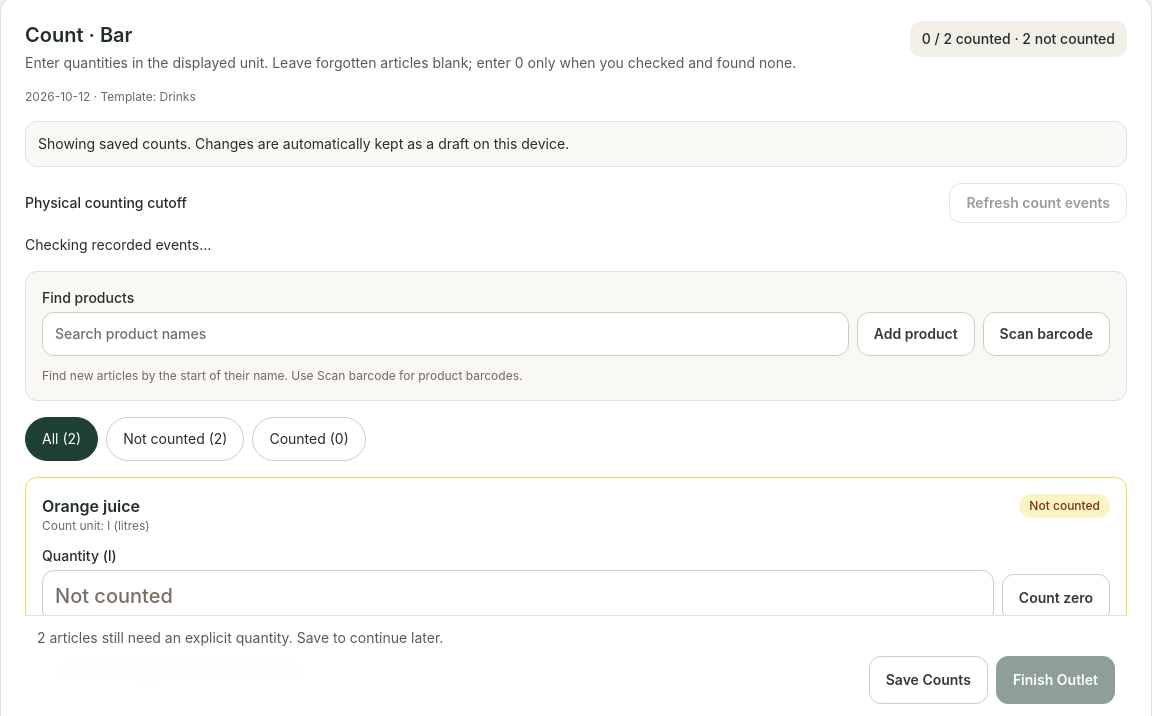
Test: lets a counter correct an accidental new article before saving without removing expected template rows
Click the button "Add product". click: (916, 334)
box: [857, 312, 975, 356]
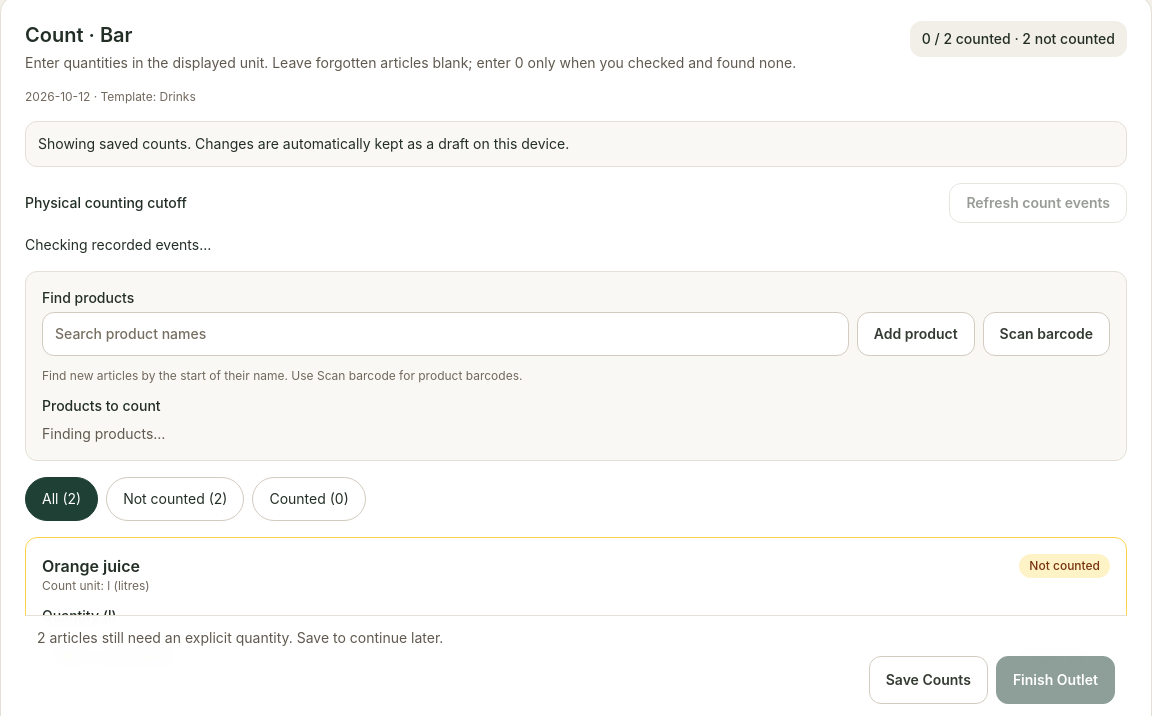
Type "Wine" into the search field labelled "Find products". click: (445, 334)
box: [42, 312, 849, 356]
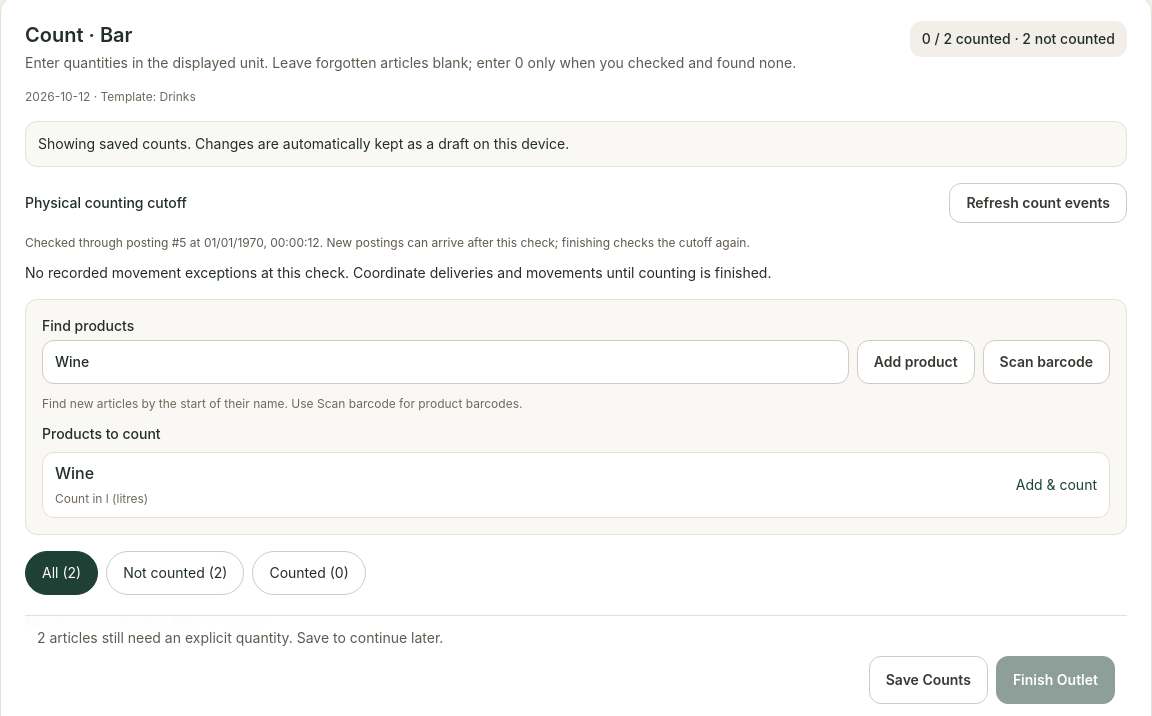
Click the button "Wine Count in l (litres) Add & count". click: (75, 473)
box: [42, 452, 1110, 518]
(page scrolled)
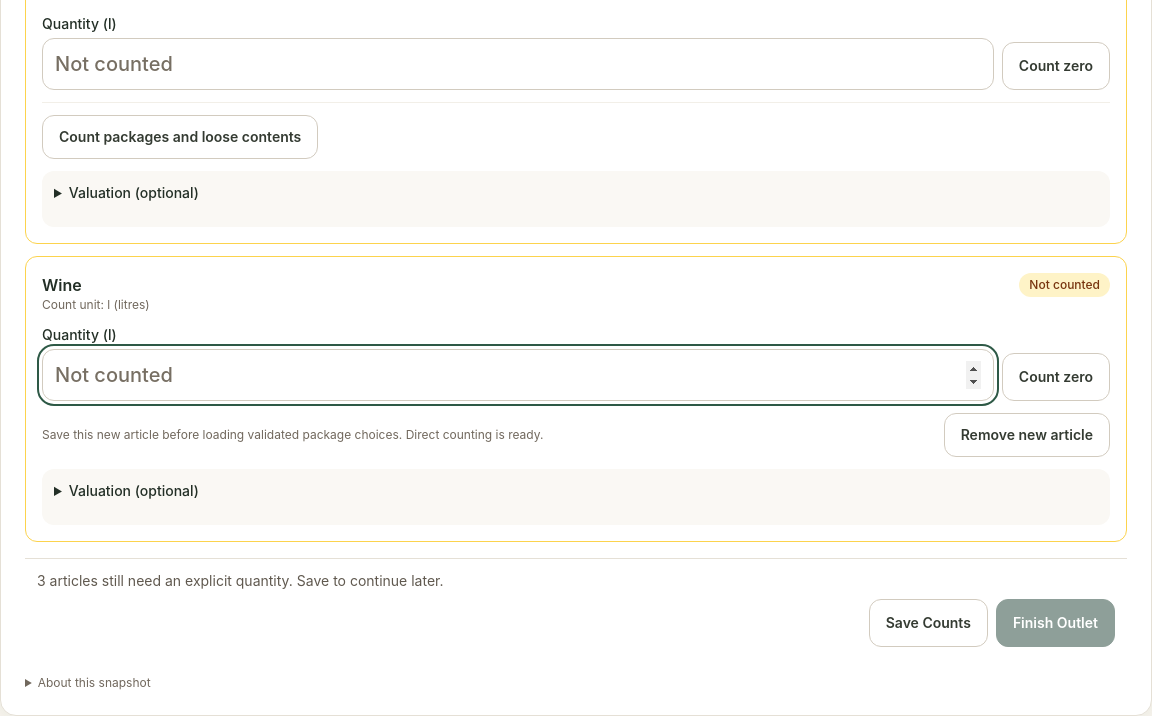
Click the button with aria-label "Remove new article Wine". click: (1027, 435)
box: [944, 413, 1110, 457]
(page scrolled)
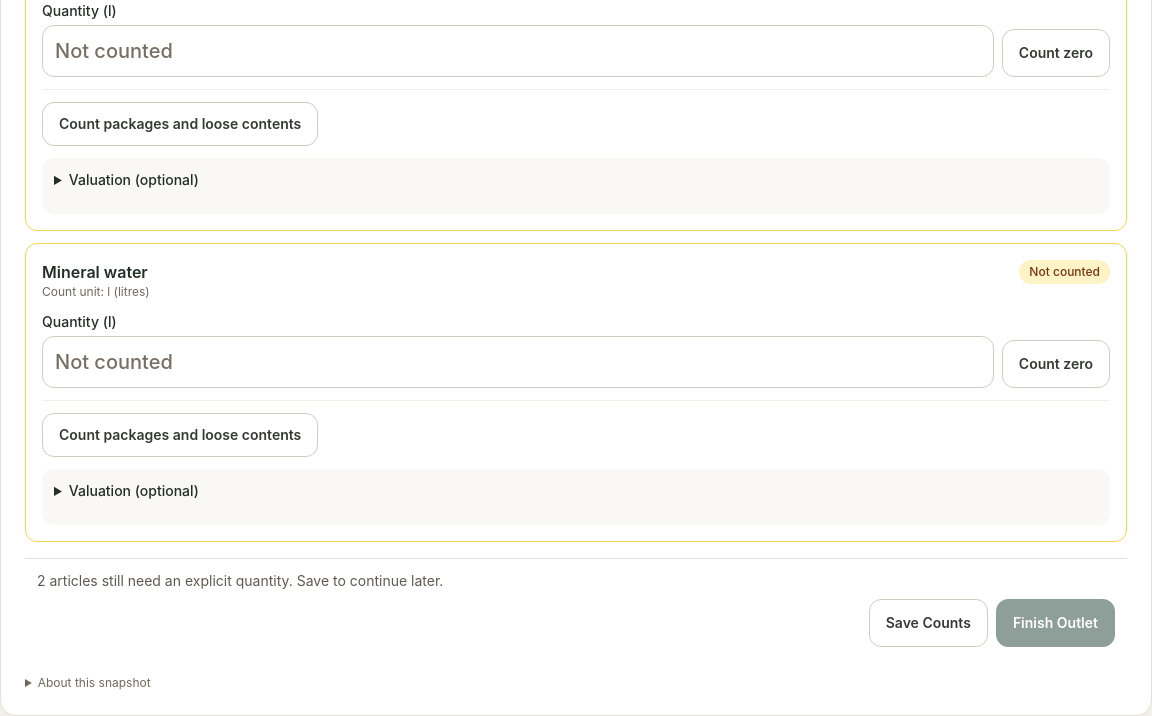
Result: the number field named "Count Orange juice" is shown at [42, 25, 994, 77]
Result: the number field labelled "Count Wine" is gone
